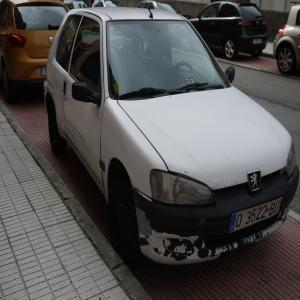Vehicle-registration-plate: (230, 197, 284, 234), (41, 65, 48, 76), (255, 39, 263, 46)
